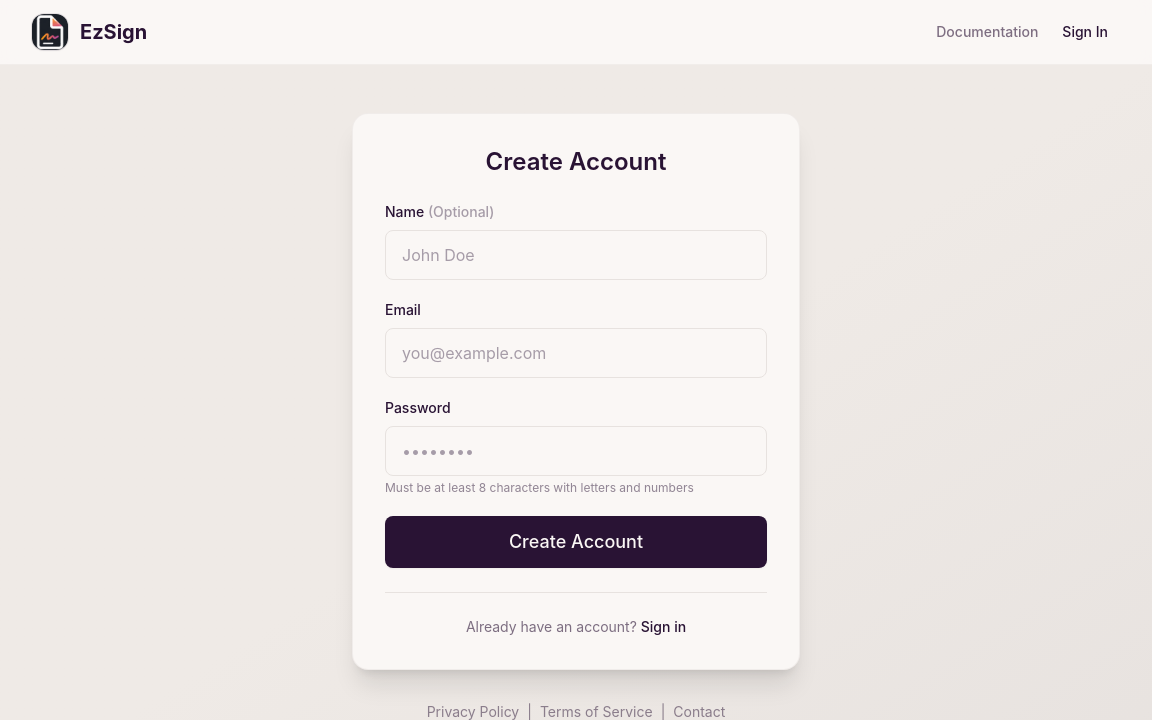
Register - registration gate render paths › surfaces the server message when the error envelope has a string `error` field (registration-gate 403 shape)
Type "Someone" into the field with placeholder "John Doe".
click(576, 255); type("Someone")  # box [385,230,767,280]
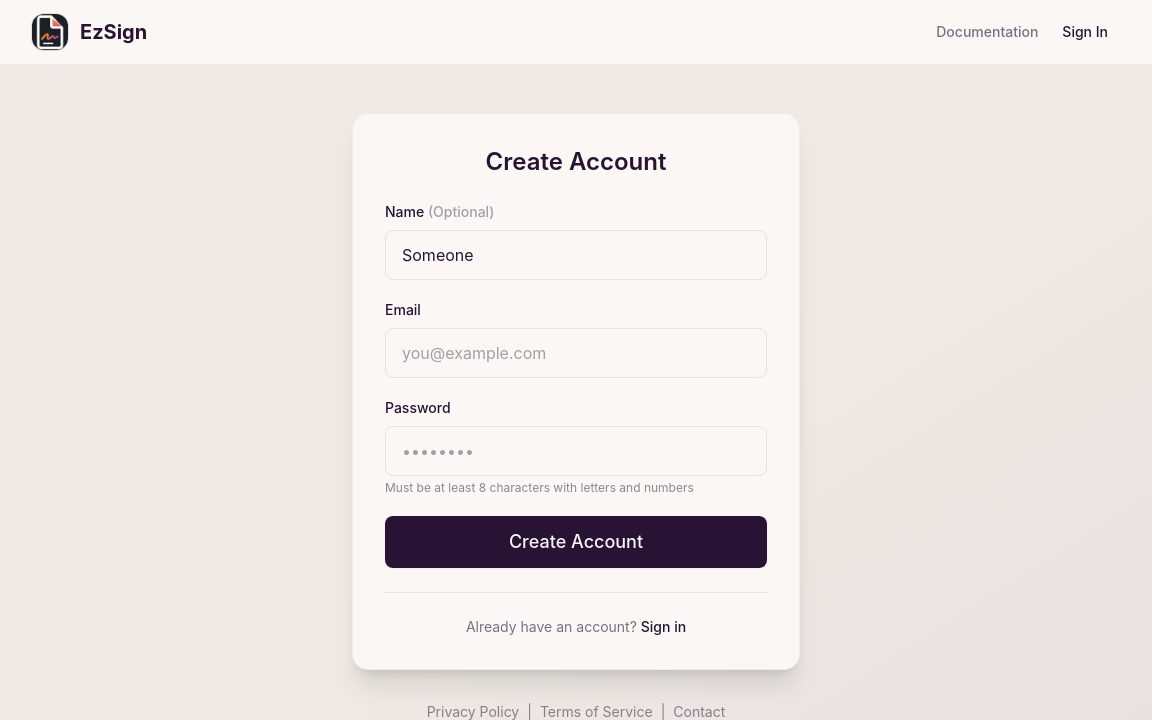
Type "someone@example.com" into the field with placeholder "you@example.com".
click(576, 353); type("someone@example.com")  # box [385,328,767,378]
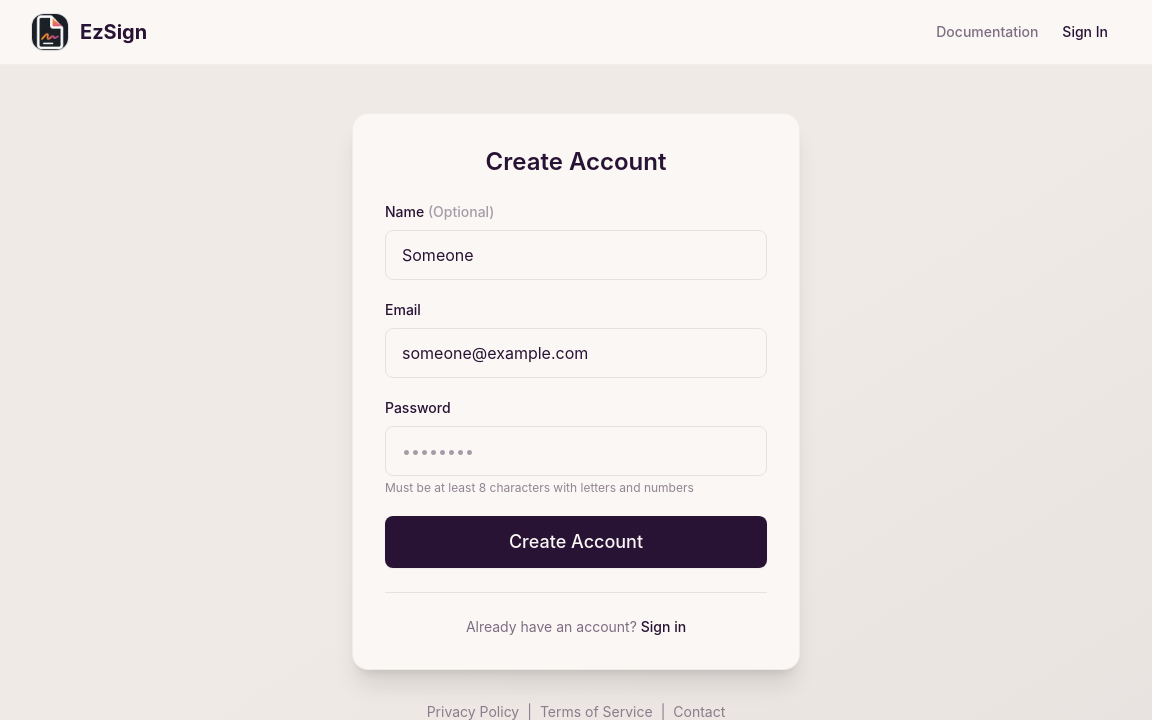
Type "password123" into the password field with placeholder "••••••••".
click(576, 451); type("password123")  # box [385,426,767,476]
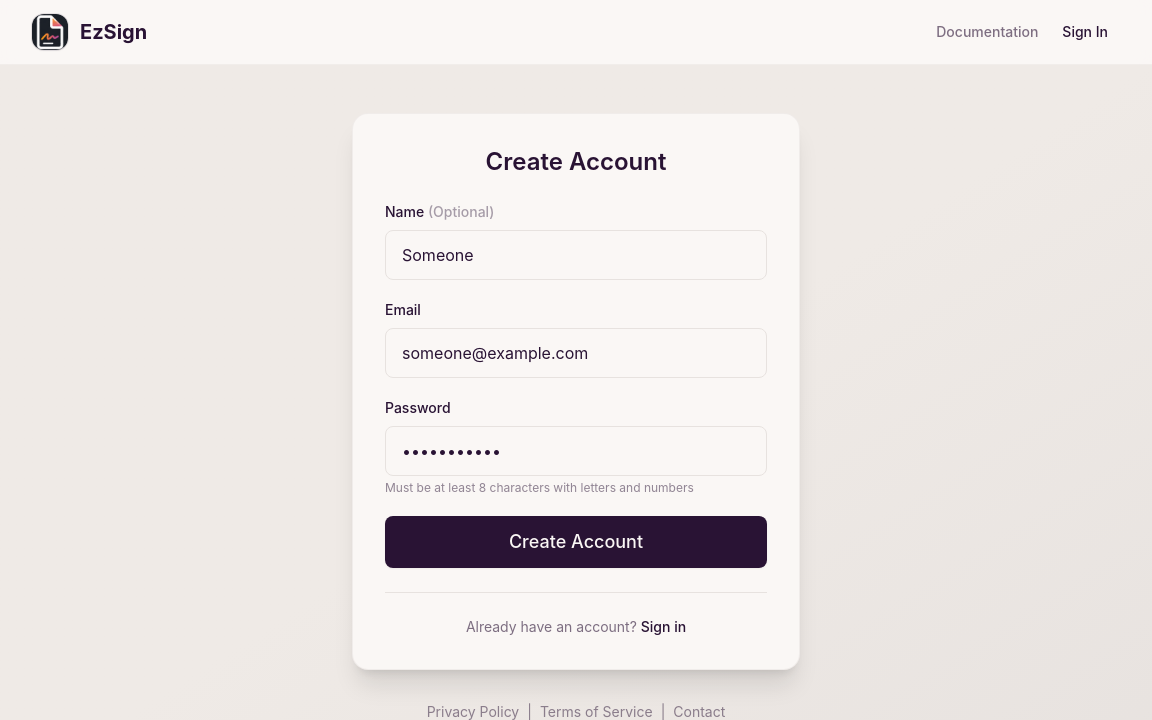
Click the button "Create Account".
click(576, 542)  # box [385,516,767,568]
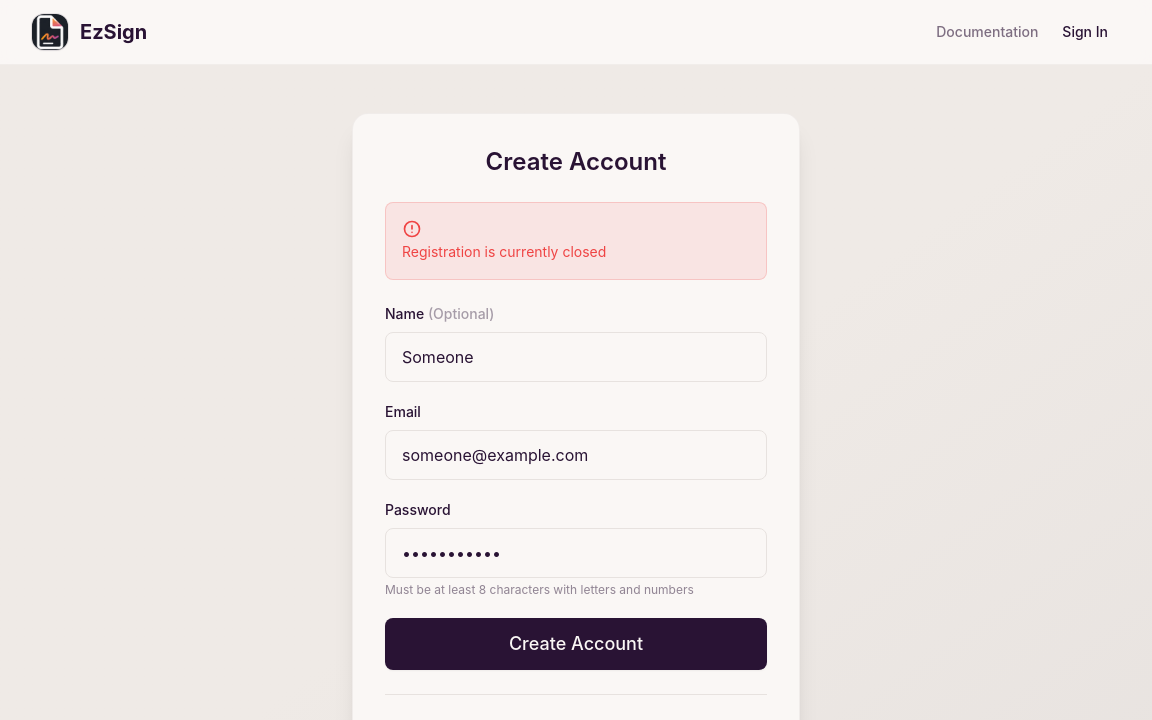
Expected: the text "Registration is currently closed" is shown, [402,243,606,260]
